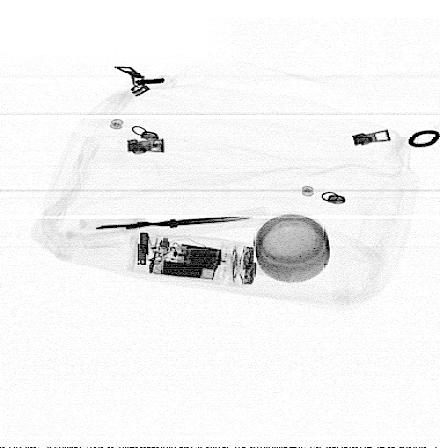Scissors: (67, 215, 252, 239)
